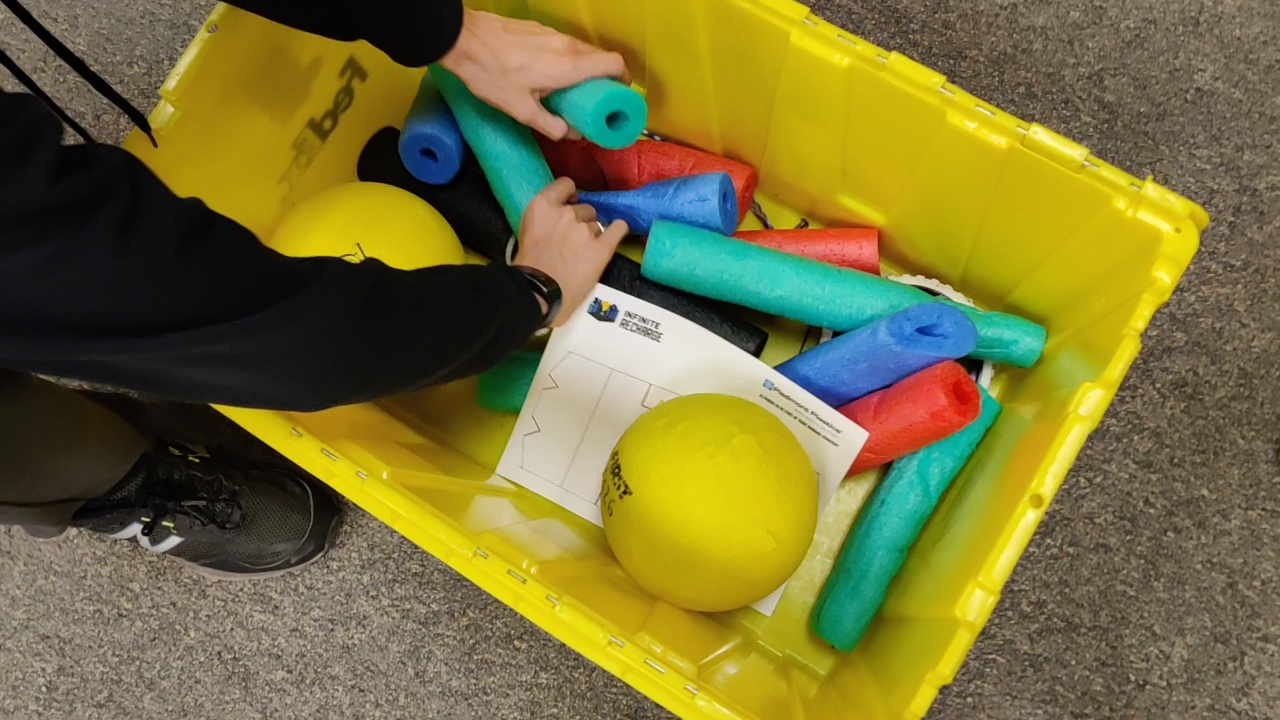Ball: (601, 395, 819, 607), (271, 182, 466, 274)
